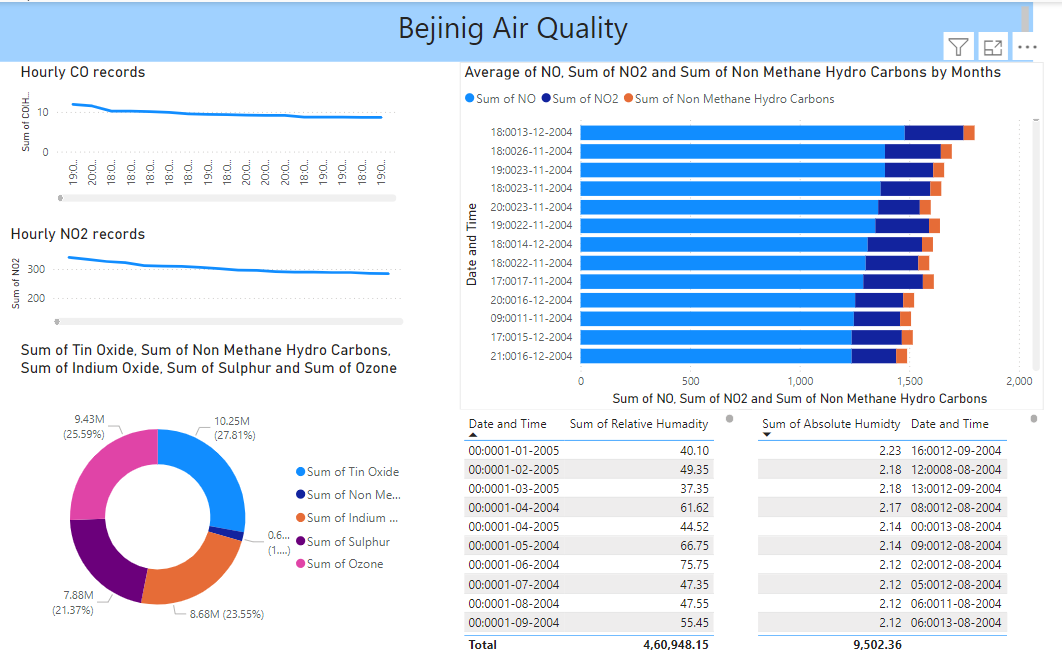

What the dashboard file says about the page in this screenshot:
{"tool":"powerbi","page":{"name":"Page 1","canvas":[1280,720],"ordinal":0},"visuals":[{"type":"textbox","box":[10,0,1134.3,65.7],"z":0},{"type":"barChart","title":"Average of NO, Sum of NO2 and Sum of Non Methane Hydro Carbons by Months","fields":{"Category":["AirQualityUCI.Date and Time"],"Y":["Sum(AirQualityUCI.NO)","Sum(AirQualityUCI.NO2)","Sum(AirQualityUCI.Non Methane Hydro Carbons)"]},"box":[514,66,642,382],"z":1000},{"type":"lineChart","title":"Hourly CO records","fields":{"Category":["AirQualityUCI.Date and Time"],"Y":["Sum(AirQualityUCI.CO(Hourly avg))"]},"box":[27.1,65.7,422.9,158.6],"z":2000},{"type":"lineChart","title":"Hourly NO2 records","fields":{"Category":["AirQualityUCI.Date and Time"],"Y":["Sum(AirQualityUCI.NO2)"]},"box":[17.1,244.3,441.4,115.7],"z":3000},{"type":"donutChart","fields":{"Y":["Sum(AirQualityUCI.Tin Oxide)","Sum(AirQualityUCI.Non Methane Hydro Carbons)","Sum(AirQualityUCI.Indium Oxide)","Sum(AirQualityUCI.Sulphur)","Sum(AirQualityUCI.Ozone)"]},"box":[27.1,371.4,441.4,348.6],"z":4000},{"type":"tableEx","fields":{"Values":["AirQualityUCI.Date and Time","Sum(AirQualityUCI.Relative Humadity)"]},"box":[512.9,447.1,307.1,272.9],"z":5000},{"type":"tableEx","fields":{"Values":["Sum(AirQualityUCI.Absolute Humidty)","AirQualityUCI.Date and Time"]},"box":[835.7,447.1,318.6,272.9],"z":5001}]}

Visuals, with their boxes on the page's 1280x720 design canvas (x1, y1, x2, y2). These are canvas units, not pixel positions in the 1062x655 screenshot, which may show the page scaled, cropped or inside an application window:
textbox: region(10, 0, 1144, 66)
"Average of NO, Sum of NO2 and Sum of Non Methane Hydro Carbons by Months" barChart: region(514, 66, 1156, 448)
"Hourly CO records" lineChart: region(27, 66, 450, 224)
"Hourly NO2 records" lineChart: region(17, 244, 458, 360)
donutChart - Sum(AirQualityUCI.Tin Oxide) x Sum(AirQualityUCI.Non Methane Hydro Carbons): region(27, 371, 468, 720)
tableEx - AirQualityUCI.Date and Time x Sum(AirQualityUCI.Relative Humadity): region(513, 447, 820, 720)
tableEx - Sum(AirQualityUCI.Absolute Humidty) x AirQualityUCI.Date and Time: region(836, 447, 1154, 720)
